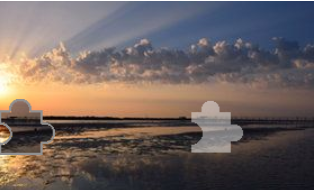target: (191, 100, 245, 155)
